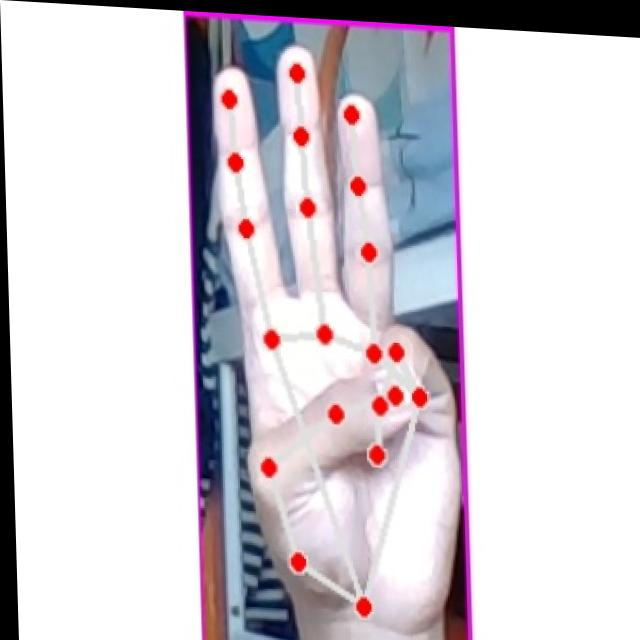W: (206, 40, 455, 620)
